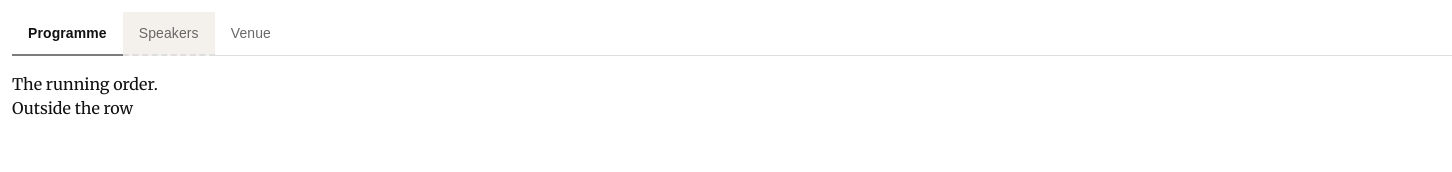
Test case: Tabs › refuses every activation path on an unavailable tab
The image size is (1452, 172).
Click the tab "Speakers" at (169, 34), box [123, 12, 215, 56]
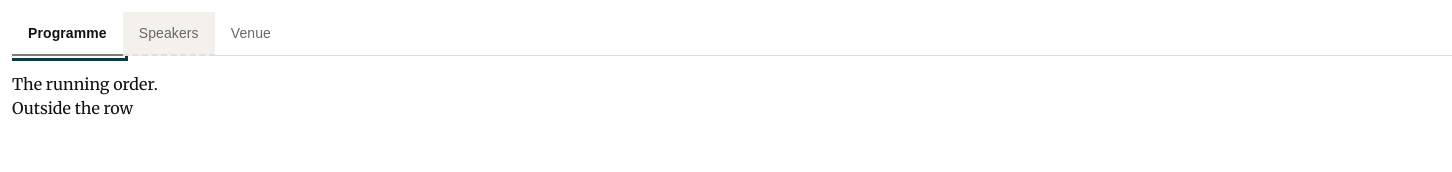
Expected: the panel reads "The running order.", [12, 74, 158, 94]
Press ArrowRight in the element showing "Programme Speakers Venue", box [12, 12, 1451, 56]
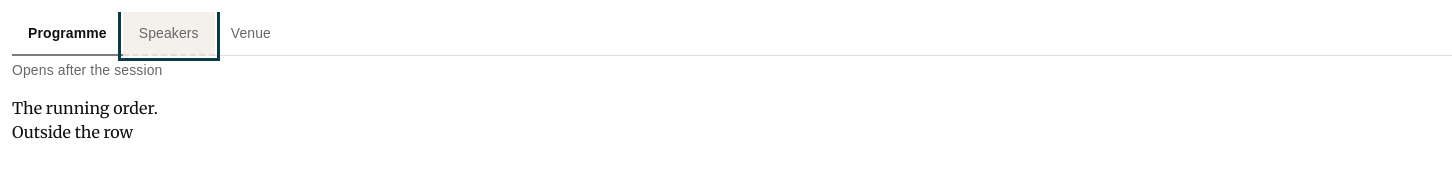
Note: The next arrow moves on from where the reader is, and that one opens.
Press ArrowRight in the element showing "Programme Speakers Venue", box [12, 12, 1451, 56]
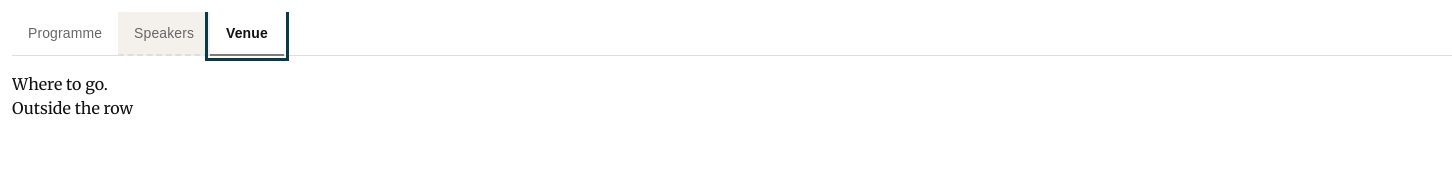
Expected: the panel reads "Where to go.", [12, 74, 108, 94]
